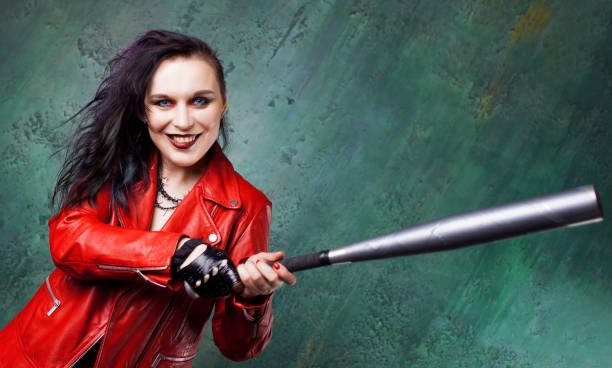bita: (274, 189, 599, 278)
